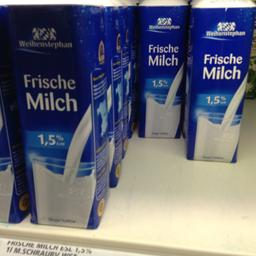milk: (6, 2, 108, 226), (185, 0, 250, 158), (134, 0, 183, 137), (184, 0, 190, 1)
